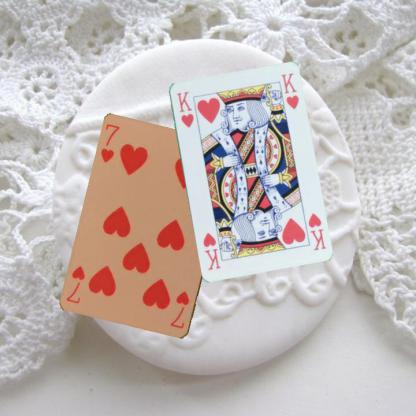7h: (98, 121, 122, 165), (168, 288, 191, 330)
Kh: (305, 210, 327, 251), (174, 88, 195, 129)
